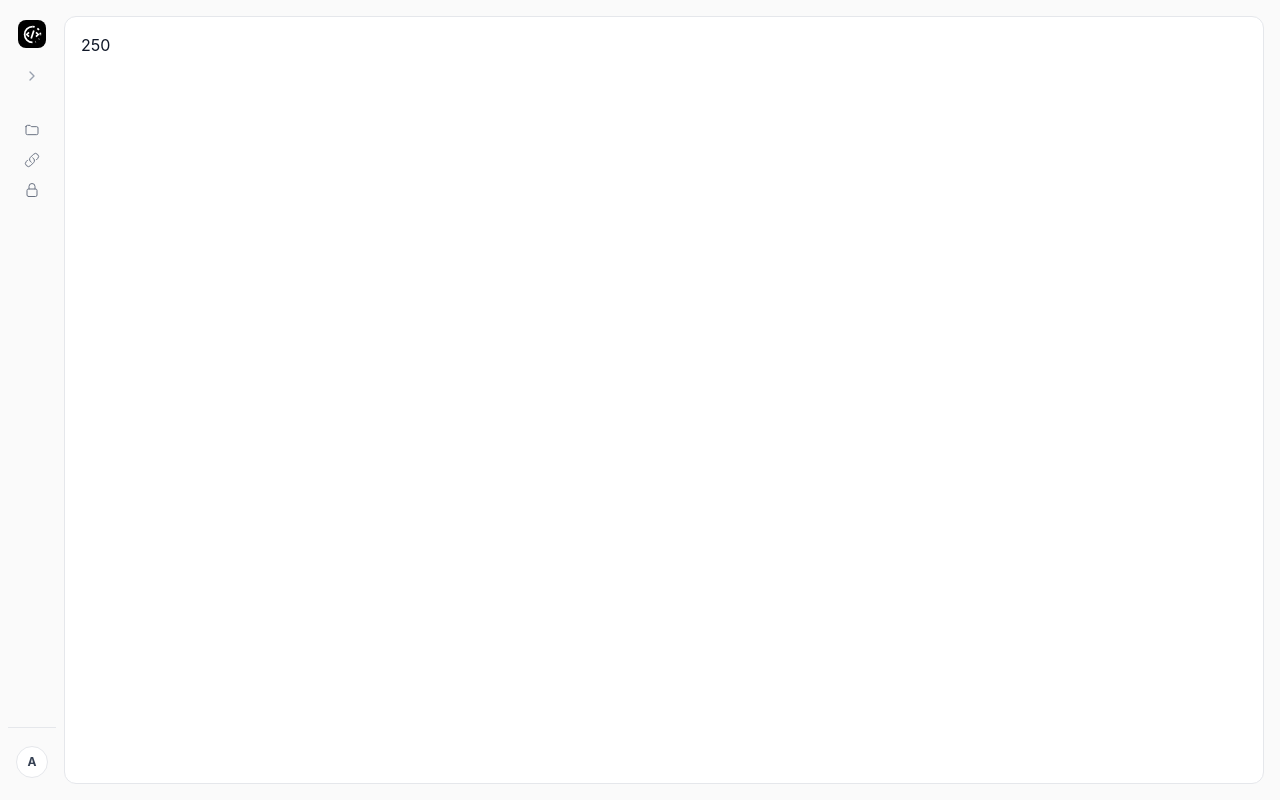
Test case: App › shares the user and refreshes the sidebar credits
Step 1. Click the button with test id "sidebar-toggle" → click(32, 76), box [16,60,48,92]
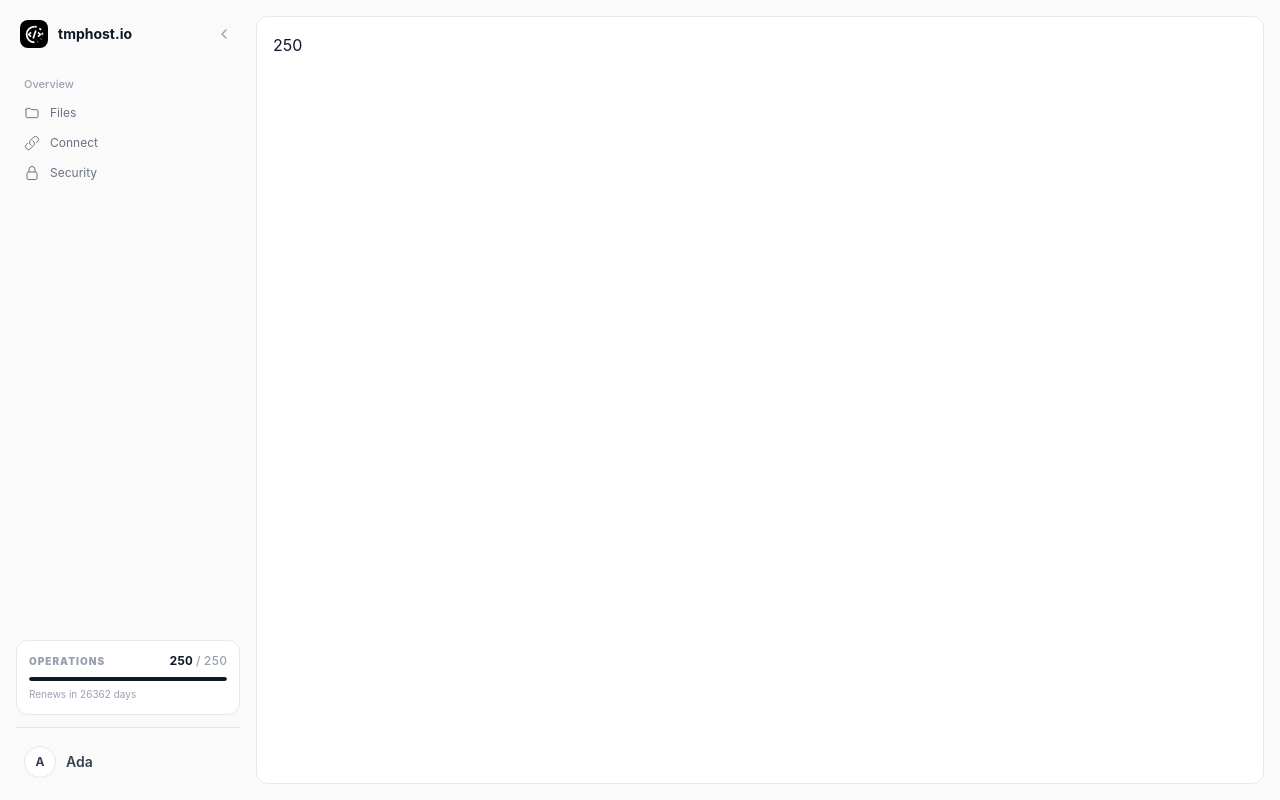
Step 2. Click the button with test id "spend" → click(760, 400), box [273,33,1247,767]
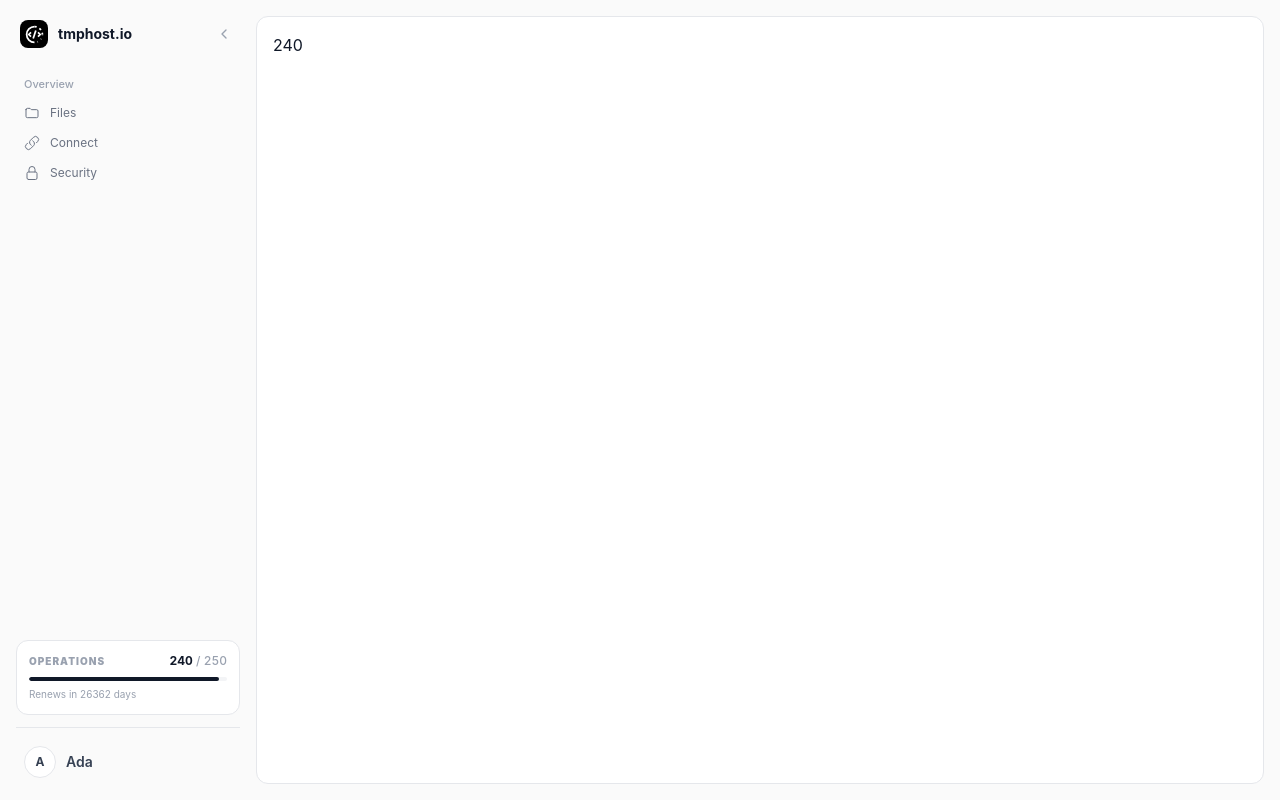
Check: the button with test id "spend" reads "240"
Check: the link with test id "sidebar-credits" shows "240", box [16,640,240,715]
